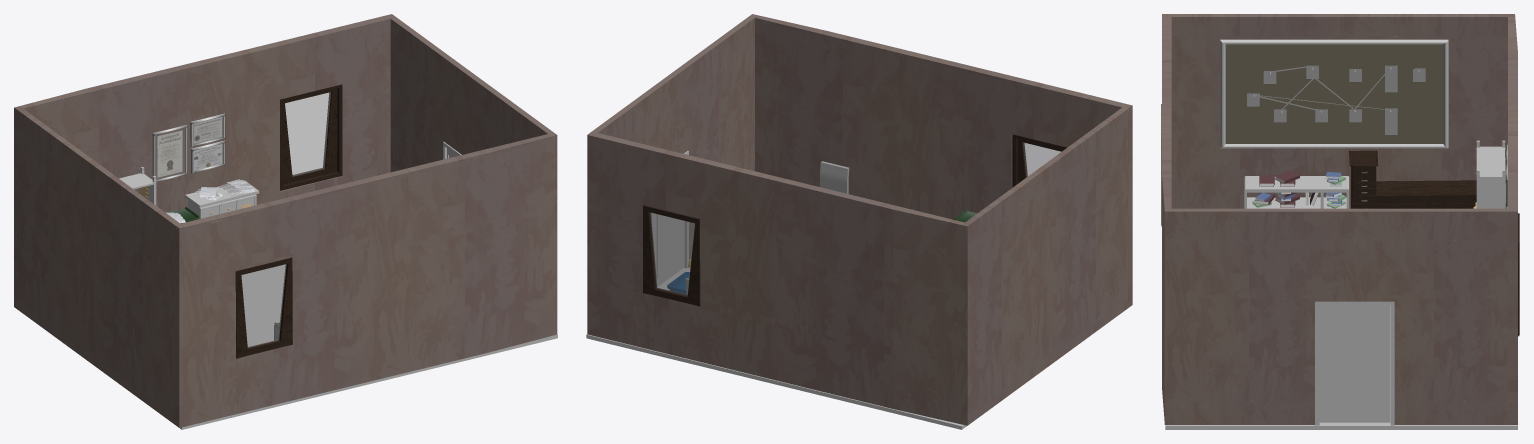
The model's file is Decetive room March 2024.fbx.
3 renders of one model, left to right at view 1: azimuth 30°, elevation 25°; view 2: azimuth 150°, elevation 25°; view 3: azimuth 270°, elevation 25°, orthographic. The views are drawn at different scales.
Visible parts, largest first — view 1: polySurface460, polySurface348, polySurface294, polySurface82, polySurface237, polySurface401, polySurface113, polySurface297, polySurface69, polySurface84, polySurface378, polySurface367 (+4 smaller); view 2: polySurface348, polySurface460, polySurface82, polySurface113, polySurface294, polySurface86, polySurface74, polySurface237, polySurface401; view 3: polySurface460, polySurface348, polySurface206, polySurface86, polySurface228, polySurface478, polySurface294, polySurface164, polySurface64, polySurface192, polySurface191, polySurface258 (+1 smaller).
Boxes of the visible parts, x1=… form: polySurface460: x1=174, y1=15, x2=557, y2=427; polySurface348: x1=14, y1=14, x2=395, y2=424; polySurface294: x1=180, y1=264, x2=557, y2=429; polySurface82: x1=285, y1=92, x2=330, y2=176; polySurface237: x1=241, y1=264, x2=286, y2=347; polySurface401: x1=235, y1=257, x2=292, y2=358; polySurface113: x1=283, y1=88, x2=337, y2=184; polySurface297: x1=155, y1=128, x2=184, y2=179; polySurface69: x1=155, y1=128, x2=184, y2=179; polySurface84: x1=185, y1=180, x2=259, y2=218; polySurface378: x1=280, y1=84, x2=341, y2=190; polySurface367: x1=193, y1=117, x2=222, y2=144; polySurface348: x1=587, y1=104, x2=1131, y2=425; polySurface460: x1=592, y1=14, x2=1132, y2=307; polySurface82: x1=650, y1=212, x2=694, y2=295; polySurface113: x1=643, y1=205, x2=700, y2=306; polySurface294: x1=586, y1=267, x2=967, y2=429; polySurface86: x1=653, y1=213, x2=684, y2=286; polySurface74: x1=820, y1=161, x2=849, y2=193; polySurface237: x1=1023, y1=142, x2=1060, y2=177; polySurface401: x1=1017, y1=138, x2=1063, y2=183; polySurface460: x1=1162, y1=14, x2=1516, y2=424; polySurface348: x1=1163, y1=14, x2=1517, y2=424; polySurface206: x1=1225, y1=44, x2=1442, y2=143; polySurface86: x1=1319, y1=305, x2=1390, y2=422; polySurface228: x1=1349, y1=149, x2=1505, y2=208; polySurface478: x1=1220, y1=39, x2=1448, y2=148; polySurface294: x1=1165, y1=305, x2=1517, y2=429; polySurface164: x1=1244, y1=176, x2=1349, y2=208; polySurface64: x1=1315, y1=301, x2=1394, y2=425; polySurface192: x1=1476, y1=170, x2=1505, y2=208; polySurface191: x1=1476, y1=147, x2=1505, y2=176; polySurface258: x1=1385, y1=65, x2=1397, y2=92.
Size of the model in its own units: 873 by 447 by 667.
